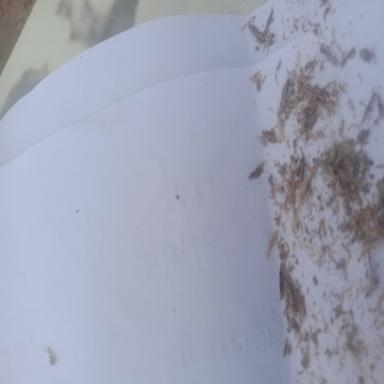pbw: (249, 23, 266, 44), (261, 129, 277, 144)
